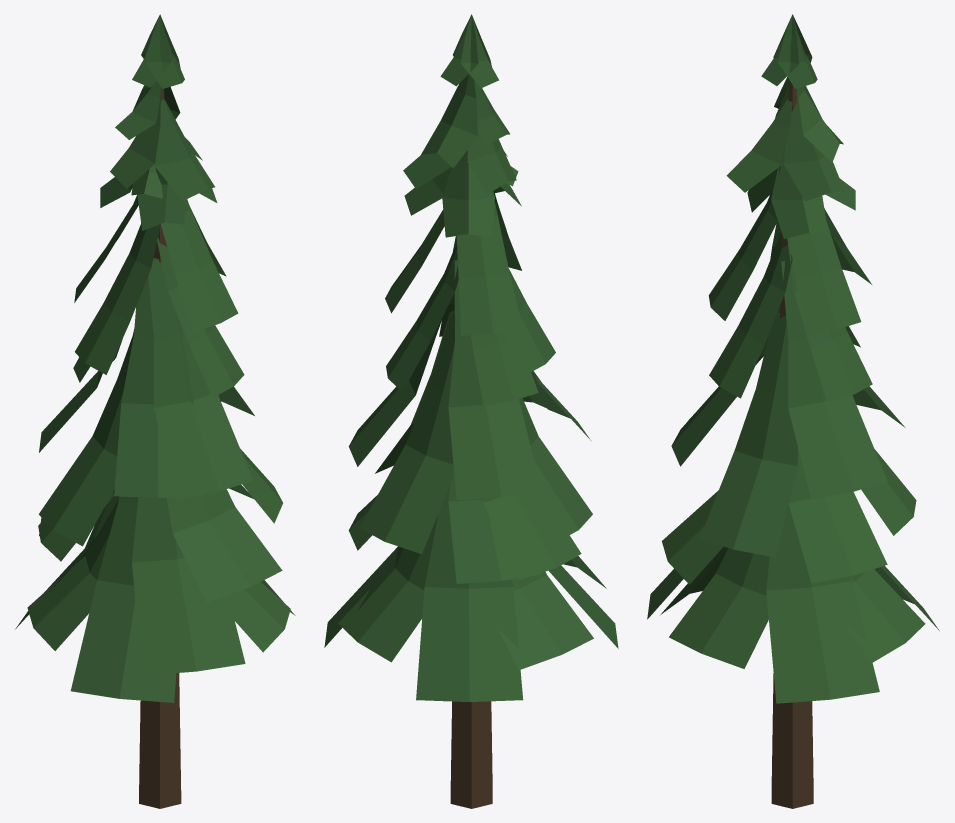
The model's file is pinetree_01.fbx.
3 views of the same model, side by side, from view 1: azimuth 30°, elevation 25°; view 2: azimuth 150°, elevation 25°; view 3: azimuth 270°, elevation 25° (orthographic).
Visible parts, largest first — view 1: Pinetree_01; view 2: Pinetree_01; view 3: Pinetree_01.
Boxes of the visible parts, x1,y1,x2,y2 form: Pinetree_01: (15, 14, 295, 808); Pinetree_01: (324, 14, 618, 808); Pinetree_01: (647, 14, 939, 808).
Size of the model in its own units: 3.66 by 11.15 by 3.78.
Materials: 1 (1 with a texture image).
